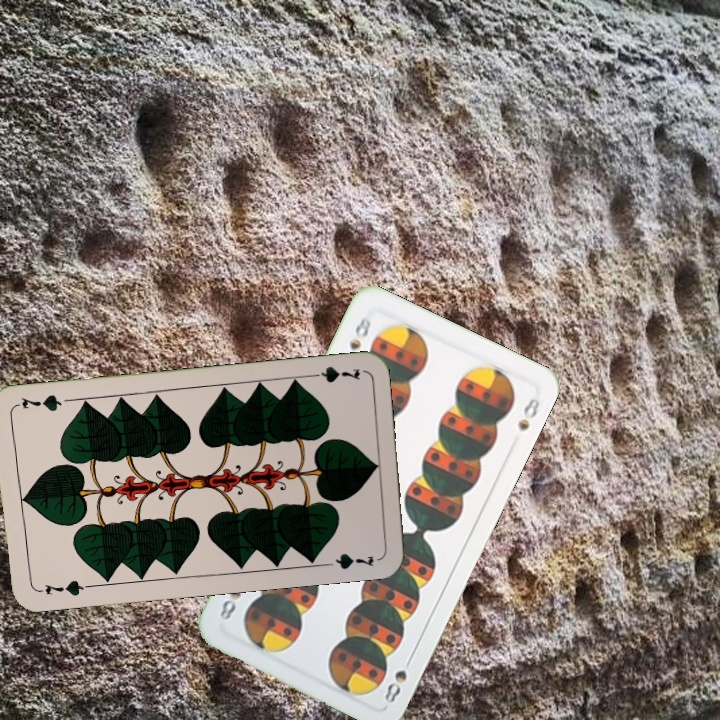G7: (304, 362, 363, 386), (33, 576, 92, 599)
S8: (380, 651, 416, 706), (345, 309, 374, 353)
